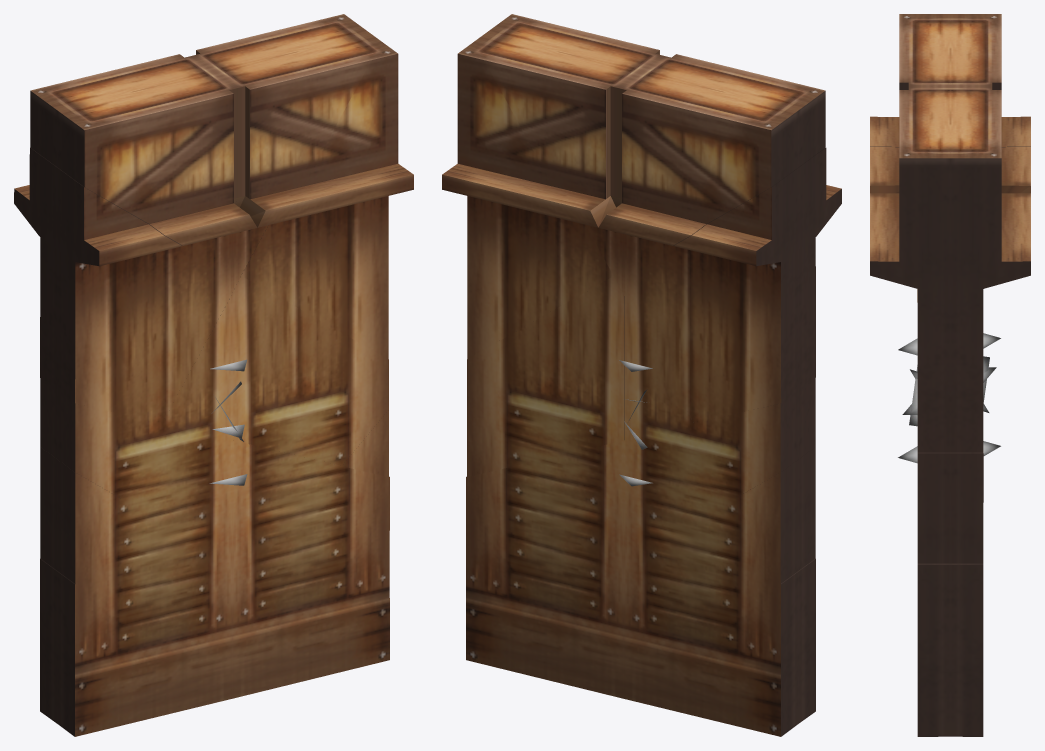
The model's file is a_SWGuwall02l.glb.
3 views of the same model, side by side, from view 1: azimuth 30°, elevation 25°; view 2: azimuth 150°, elevation 25°; view 3: azimuth 270°, elevation 25° (orthographic). The views are drawn at different scales.
Parts seen in each view (by area): view 1: a_SWGuwall02l; view 2: a_SWGuwall02l; view 3: a_SWGuwall02l.
Boxes of the visible parts, left/top/right/bottom form: a_SWGuwall02l: left=14, top=14, right=413, bottom=736; a_SWGuwall02l: left=442, top=14, right=841, bottom=736; a_SWGuwall02l: left=870, top=14, right=1030, bottom=736.
Size of the model in its own units: 1.99 by 3.7 by 0.9333.
2 materials, 2 textured.
